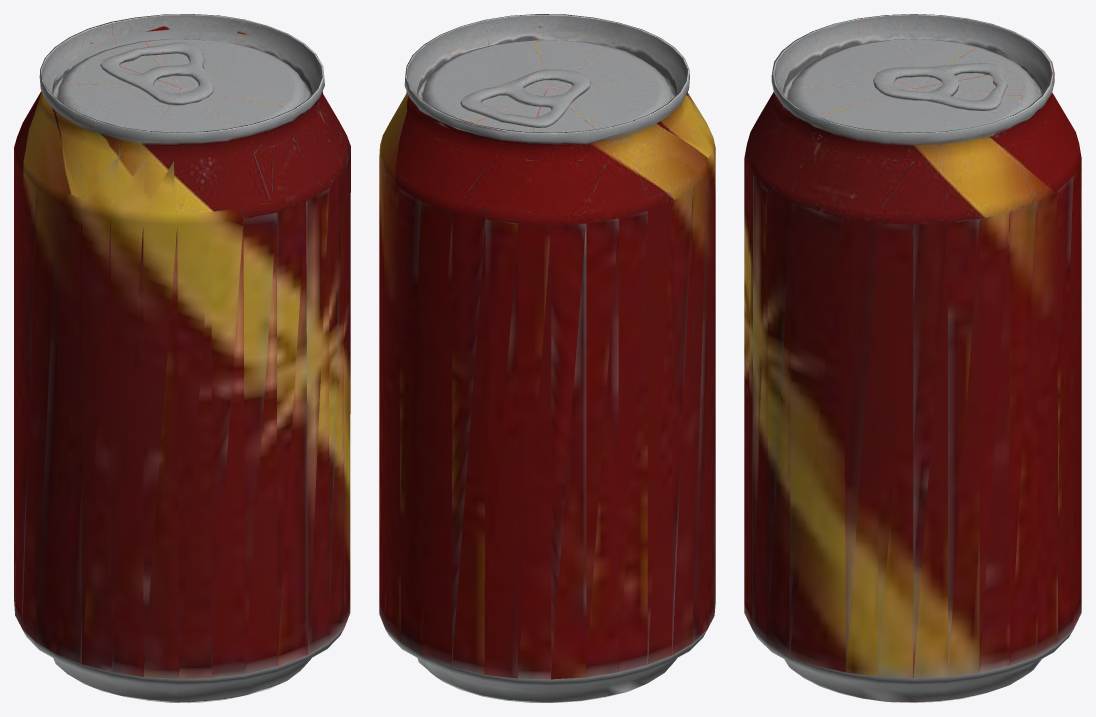
Rendered from item-cola-t25.glb.
The picture shows the model from 3 angles, left to right: view 1: azimuth 30°, elevation 25°; view 2: azimuth 150°, elevation 25°; view 3: azimuth 270°, elevation 25°; orthographic projection.
Parts seen in each view (by area): view 1: item-cola-t25; view 2: item-cola-t25; view 3: item-cola-t25.
Boxes of the visible parts, bbox=[...] form: item-cola-t25: bbox=[14, 14, 350, 702]; item-cola-t25: bbox=[379, 14, 715, 702]; item-cola-t25: bbox=[744, 14, 1081, 702].
Bounding box in the file's own units: 0.0648 × 0.122 × 0.065.
Materials: 1 (1 with a texture image).
